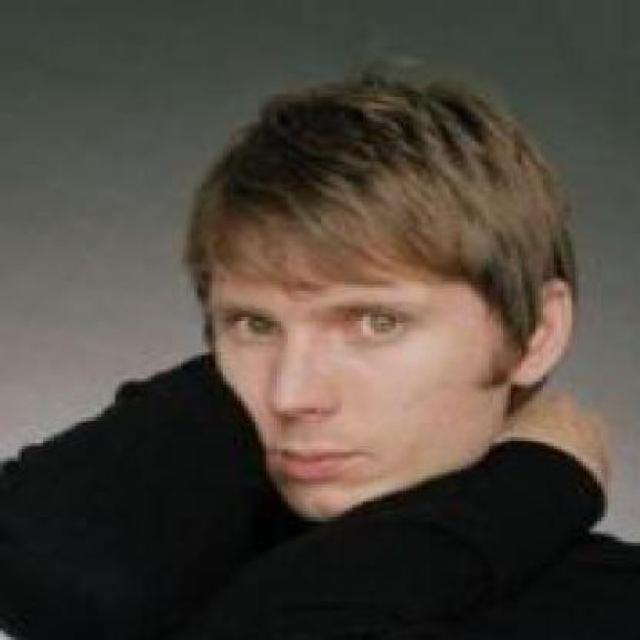closed-mouth: (268, 434, 368, 482)
